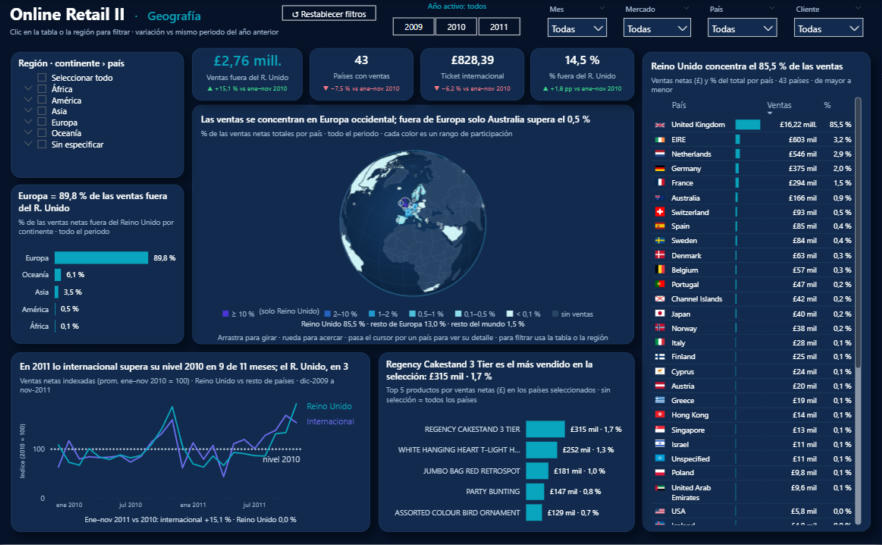

This screenshot's page, from the dashboard's own definition file:
{"tool":"powerbi","page":{"name":"Geografía","canvas":[1280,788],"ordinal":2},"visuals":[{"type":"textbox","box":[12,0,540,64],"z":0},{"type":"deneb7E15AEF80B9E4D4F8E12924291ECE89A","fields":{"dataset":["dim_pais.pais_mapa","fact_ventas.Ventas Netas","fact_ventas.% del Total País","fact_ventas.Color Mapa País","fact_ventas.Clientes Únicos"]},"box":[280,152,640,346],"z":500},{"type":"card","fields":{"Values":["fact_ventas.Año seleccionado"]},"box":[548,2,232,20],"z":1000},{"type":"slicer","fields":{"Values":["dim_fecha.anio"]},"box":[548,22,232,36],"z":2000},{"type":"actionButton","box":[410,8,136,22],"z":3000},{"type":"slicer","fields":{"Values":["dim_fecha.mes_nombre"]},"box":[788,4,104,56],"z":4000},{"type":"slicer","fields":{"Values":["dim_pais.mercado"]},"box":[898,4,116,56],"z":5000},{"type":"slicer","fields":{"Values":["dim_pais.pais"]},"box":[1020,4,118,56],"z":6000},{"type":"slicer","fields":{"Values":["dim_cliente.cliente_pais"]},"box":[1144,4,118,56],"z":7000},{"type":"slicer","title":"Región · continente › país","fields":{"Values":["dim_pais.continente","dim_pais.pais"]},"box":[18,76,250,182],"z":8000},{"type":"clusteredBarChart","fields":{"Category":["dim_pais.continente"],"Y":["fact_ventas.% Ventas Int. por Continente"]},"box":[18,268,250,230],"z":9000},{"type":"card","fields":{"Values":["fact_ventas.Txt Ventas Internacionales"]},"box":[280,70,160,76],"z":10000},{"type":"card","fields":{"Values":["fact_ventas.Var Ventas Internacionales"]},"box":[280,116,160,28],"z":11000},{"type":"card","fields":{"Values":["fact_ventas.Txt Países con Ventas"]},"box":[450,70,150,76],"z":12000},{"type":"card","fields":{"Values":["fact_ventas.Var Paises con Ventas"]},"box":[450,116,150,28],"z":13000},{"type":"card","fields":{"Values":["fact_ventas.Txt Ticket Promedio Internacional"]},"box":[610,70,150,76],"z":14000},{"type":"card","fields":{"Values":["fact_ventas.Var Ticket Internacional"]},"box":[610,116,150,28],"z":15000},{"type":"card","fields":{"Values":["fact_ventas.Txt % Ventas Internacionales"]},"box":[770,70,150,76],"z":16000},{"type":"card","fields":{"Values":["fact_ventas.Var Pct Internacional"]},"box":[770,116,150,28],"z":17000},{"type":"textbox","box":[314,444,56,24],"z":19000},{"type":"card","fields":{"Values":["fact_ventas.Leyenda globo 10"]},"box":[370,445,100,18],"z":20000},{"type":"textbox","box":[470,444,420,24],"z":21000},{"type":"card","fields":{"Values":["fact_ventas.Nota globo"]},"box":[290,463,620,17],"z":22000},{"type":"textbox","box":[290,479,620,22],"z":23000},{"type":"tableEx","fields":{"Values":["dim_pais.bandera","dim_pais.pais","fact_ventas.Barra Ventas (valor)","fact_ventas.Ventas Netas","fact_ventas.% del Total País"]},"box":[932,76,330,694],"z":24000},{"type":"lineChart","fields":{"Category":["dim_fecha.inicio_mes"],"Series":["dim_pais.mercado"],"Y":["fact_ventas.Índice mercado"]},"box":[18,510,520,260],"z":25000},{"type":"card","fields":{"Values":["fact_ventas.Nota mercados"]},"box":[28,746,500,18],"z":26000},{"type":"clusteredBarChart","fields":{"Category":["dim_producto.descripcion"],"Y":["fact_ventas.Ventas Netas Top5 Producto"]},"box":[550,510,370,260],"z":27000}]}

Visuals, with their boxes in screenshot pixels (x1, y1, x2, y2), scaled from the page's 1280x788 canvas onto the 882x545 screenshot:
textbox: l=8, t=0, r=380, b=44
deneb7E15AEF80B9E4D4F8E12924291ECE89A - dim_pais.pais_mapa x fact_ventas.Ventas Netas: l=193, t=105, r=634, b=344
card - fact_ventas.Año seleccionado: l=378, t=1, r=537, b=15
slicer - dim_fecha.anio: l=378, t=15, r=537, b=40
actionButton: l=283, t=6, r=376, b=21
slicer - dim_fecha.mes_nombre: l=543, t=3, r=615, b=41
slicer - dim_pais.mercado: l=619, t=3, r=699, b=41
slicer - dim_pais.pais: l=703, t=3, r=784, b=41
slicer - dim_cliente.cliente_pais: l=788, t=3, r=870, b=41
"Región · continente › país" slicer: l=12, t=53, r=185, b=178
clusteredBarChart - dim_pais.continente x fact_ventas.% Ventas Int. por Continente: l=12, t=185, r=185, b=344
card - fact_ventas.Txt Ventas Internacionales: l=193, t=48, r=303, b=101
card - fact_ventas.Var Ventas Internacionales: l=193, t=80, r=303, b=100
card - fact_ventas.Txt Países con Ventas: l=310, t=48, r=413, b=101
card - fact_ventas.Var Paises con Ventas: l=310, t=80, r=413, b=100
card - fact_ventas.Txt Ticket Promedio Internacional: l=420, t=48, r=524, b=101
card - fact_ventas.Var Ticket Internacional: l=420, t=80, r=524, b=100
card - fact_ventas.Txt % Ventas Internacionales: l=531, t=48, r=634, b=101
card - fact_ventas.Var Pct Internacional: l=531, t=80, r=634, b=100
textbox: l=216, t=307, r=255, b=324
card - fact_ventas.Leyenda globo 10: l=255, t=308, r=324, b=320
textbox: l=324, t=307, r=613, b=324
card - fact_ventas.Nota globo: l=200, t=320, r=627, b=332
textbox: l=200, t=331, r=627, b=347
tableEx - dim_pais.bandera x dim_pais.pais: l=642, t=53, r=870, b=533
lineChart - dim_fecha.inicio_mes x dim_pais.mercado: l=12, t=353, r=371, b=533
card - fact_ventas.Nota mercados: l=19, t=516, r=364, b=528
clusteredBarChart - dim_producto.descripcion x fact_ventas.Ventas Netas Top5 Producto: l=379, t=353, r=634, b=533
